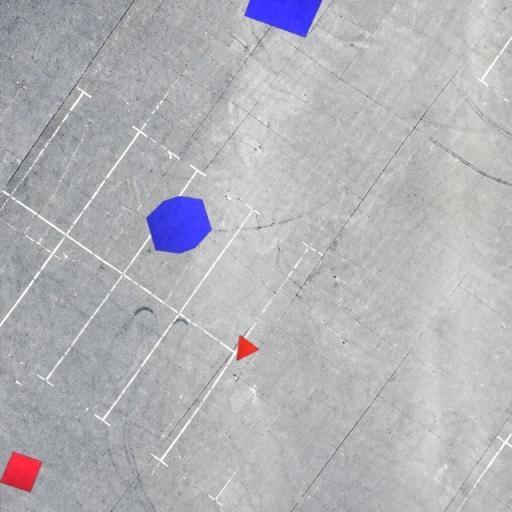BLUE_SQUARE: (243, 0, 335, 38)
RED_SQUARE: (0, 451, 43, 493)
